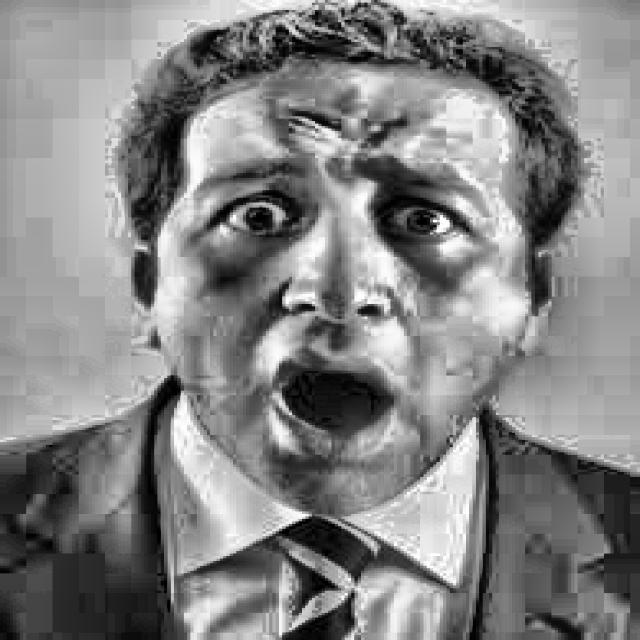surprise: (101, 4, 601, 514)
